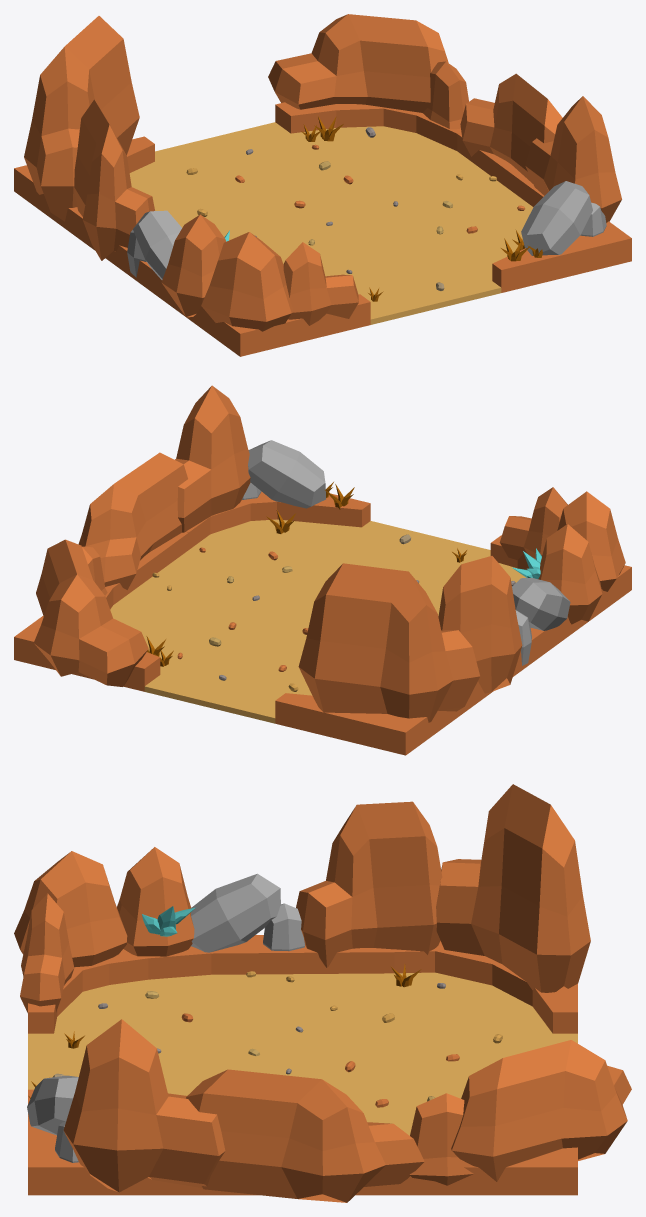
File: cave level set - 2 Way (6).fbx
3 views of the same model, one above another, from view 1: azimuth 30°, elevation 25°; view 2: azimuth 150°, elevation 25°; view 3: azimuth 270°, elevation 25° (orthographic). The views are drawn at different scales.
Visible parts, largest first — view 1: land_platform_001, Cube_008, Cube_004, Cube_003, Cube_005, Cube_009, Cube_010, Cube_001, Cube, Cube_002, Cube_007, Cube_006; view 2: land_platform_001, Cube_004, Cube_008, Cube_010, Cube_009, Cube_003, Cube, Cube_001, Cube_005, Cube_007, Cube_002, Cube_006; view 3: land_platform_001, Cube_004, Cube_010, Cube_009, Cube_003, Cube_008, Cube_005, Cube, Cube_007, Cube_002, Cube_006, Cube_001.
Boxes of the visible parts, box(x1,y1,x2,y2) form: land_platform_001: box(14, 102, 631, 356); Cube_008: box(268, 14, 448, 112); Cube_004: box(24, 16, 139, 221); Cube_003: box(74, 99, 154, 260); Cube_005: box(201, 232, 293, 331); Cube_009: box(525, 96, 621, 222); Cube_010: box(460, 73, 562, 183); Cube_001: box(521, 181, 606, 255); Cube: box(161, 214, 229, 317); Cube_002: box(283, 242, 358, 325); Cube_007: box(127, 210, 181, 279); Cube_006: box(423, 61, 468, 129); land_platform_001: box(14, 491, 631, 755); Cube_004: box(298, 563, 480, 722); Cube_008: box(34, 539, 148, 686); Cube_010: box(78, 452, 187, 589); Cube_009: box(175, 385, 250, 532); Cube_003: box(438, 556, 522, 693); Cube: box(512, 524, 602, 624); Cube_001: box(242, 440, 325, 508); Cube_005: box(557, 491, 625, 591); Cube_007: box(512, 577, 570, 665); Cube_002: box(499, 487, 567, 559); Cube_006: box(82, 546, 107, 595); land_platform_001: box(28, 935, 577, 1195); Cube_004: box(436, 784, 590, 992); Cube_010: box(186, 1069, 424, 1202); Cube_009: box(63, 1019, 225, 1192); Cube_003: box(296, 801, 442, 967); Cube_008: box(451, 1040, 631, 1181); Cube_005: box(14, 851, 127, 967); Cube: box(117, 847, 195, 956); Cube_007: box(191, 873, 304, 952); Cube_002: box(20, 893, 74, 1012); Cube_006: box(409, 1093, 473, 1185); Cube_001: box(27, 1075, 78, 1162).
Bounding box in the file's own units: 17.33 × 6.38 × 17.05.
